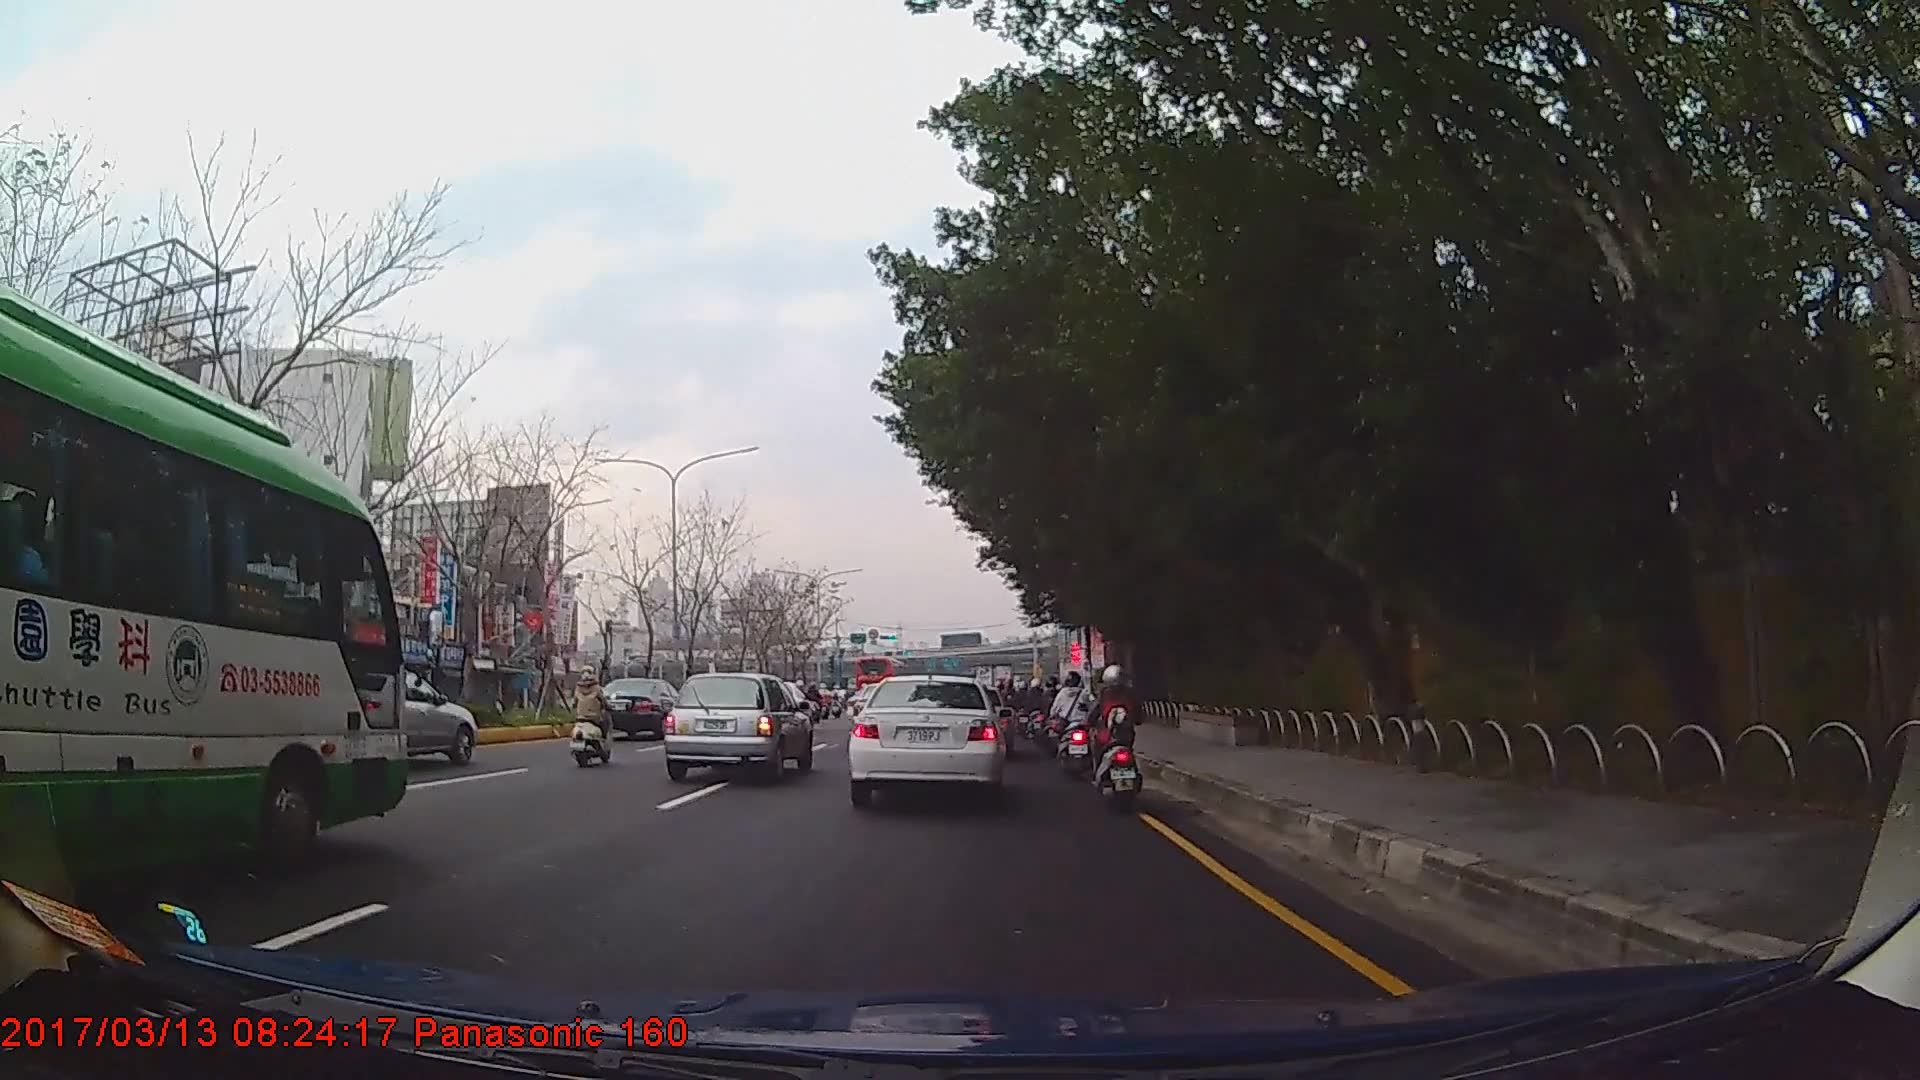rider: (1087, 658, 1149, 813), (1054, 673, 1098, 782), (572, 668, 615, 767), (1042, 675, 1066, 751)
vehicle: (0, 288, 410, 900), (844, 675, 1006, 808), (666, 671, 815, 784), (342, 668, 476, 765), (589, 677, 689, 741), (854, 651, 907, 701)
